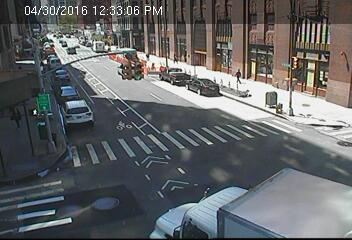neg: (123, 76, 139, 98), (319, 132, 334, 151), (66, 100, 80, 118), (145, 107, 159, 124), (306, 104, 319, 122), (232, 125, 245, 142), (32, 8, 45, 24), (259, 138, 271, 155), (162, 10, 174, 27), (290, 139, 302, 155), (117, 112, 129, 128), (261, 107, 273, 122), (304, 182, 315, 197), (287, 27, 298, 41), (284, 54, 295, 68), (253, 46, 263, 60), (315, 61, 325, 75), (88, 78, 98, 91), (52, 182, 62, 194), (110, 5, 120, 17), (73, 143, 82, 156), (245, 174, 254, 187), (71, 2, 80, 15), (54, 71, 63, 83), (259, 16, 268, 27), (155, 150, 163, 161), (195, 136, 203, 147), (120, 49, 128, 59), (92, 117, 100, 127), (193, 190, 201, 200), (170, 75, 178, 85), (33, 39, 40, 49), (198, 97, 205, 107), (147, 190, 154, 200), (97, 189, 104, 199), (212, 22, 219, 32), (124, 156, 131, 165), (76, 24, 82, 33), (99, 19, 104, 26)
pos: (5, 102, 25, 130), (231, 66, 245, 84), (172, 51, 180, 62), (144, 50, 152, 61)
